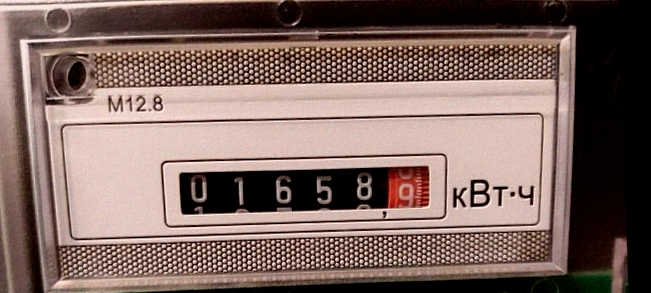0: (188, 172, 209, 203)
1: (231, 174, 249, 207)
5: (313, 173, 335, 205)
6: (273, 171, 294, 205)
8: (354, 169, 375, 201)
9: (394, 181, 416, 210)
screen: (151, 142, 454, 235)
